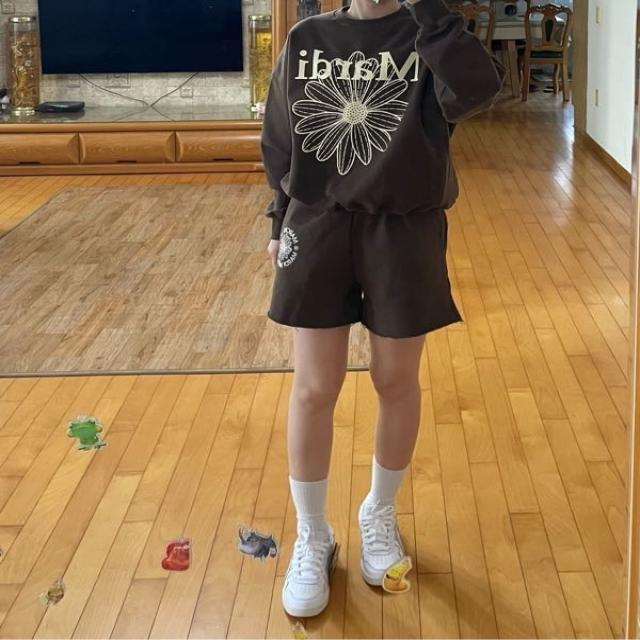mtm: (259, 0, 505, 242)
shortpants: (266, 200, 460, 336)
